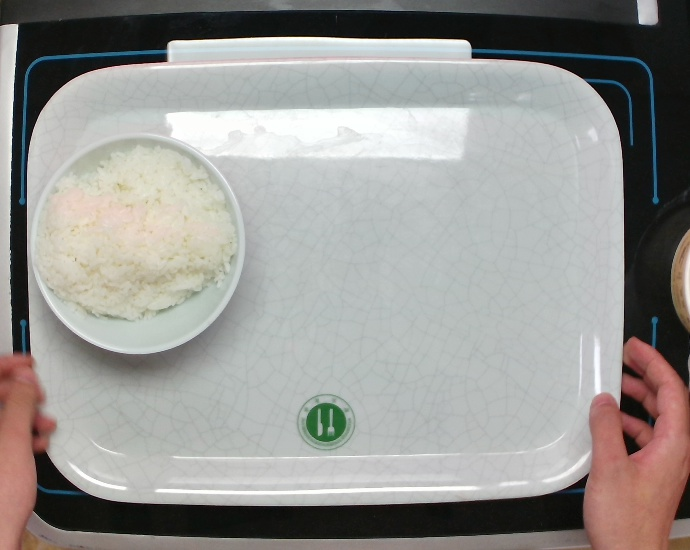JYsf-Fan_Wan: (27, 131, 247, 357)
